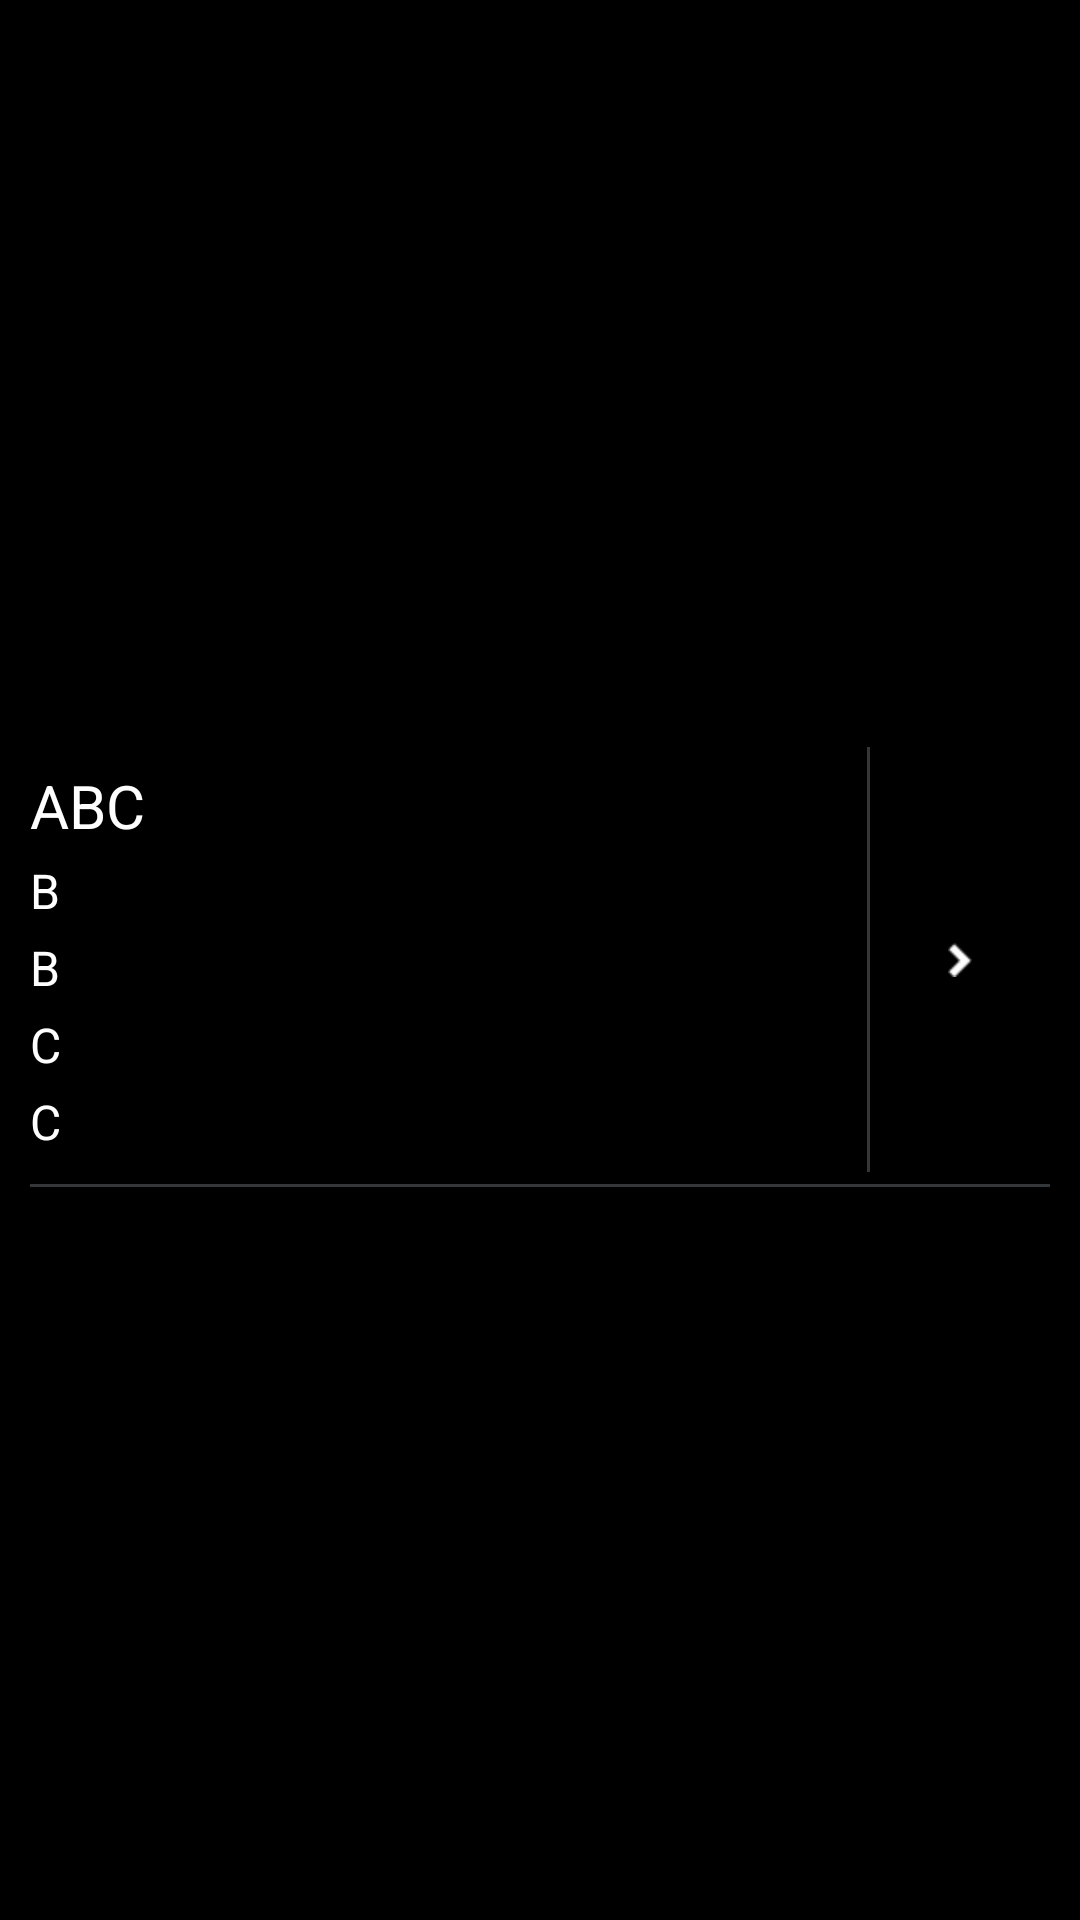

Icons on this 1080 × 1920 Android screen, each with its box as [left=x1, top=y1, right=x2, bottom=y2]:
triangle right: [left=948, top=943, right=972, bottom=977]
